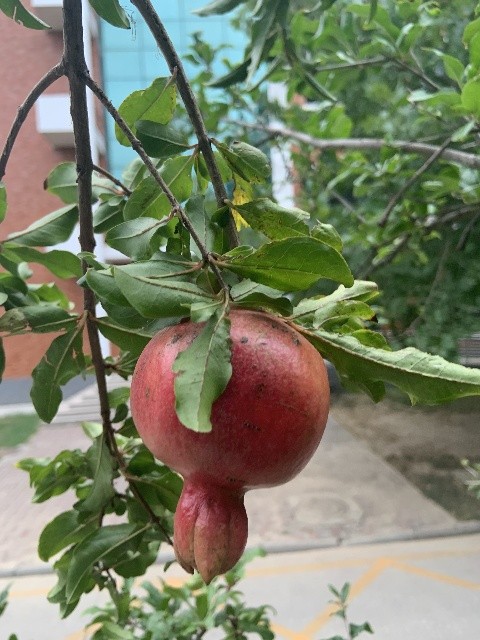ripe: (130, 305, 330, 584)
